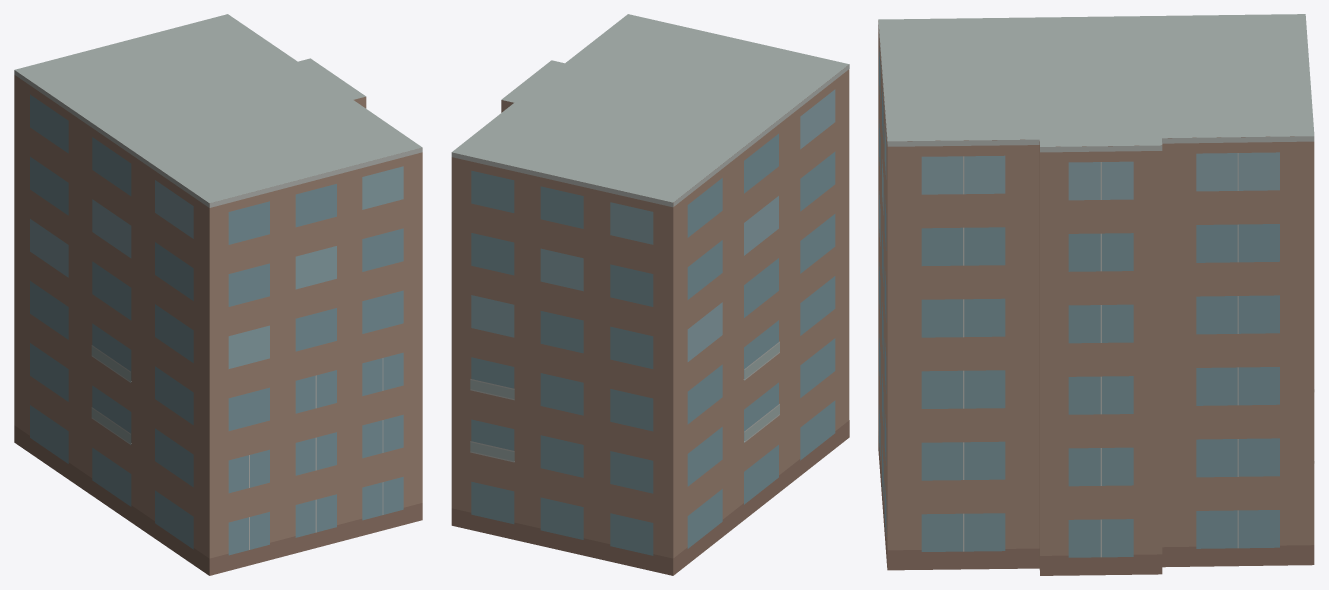
Rendered from survey-upis-32731487.glb.
3 renders of one model, left to right at view 1: azimuth 30°, elevation 25°; view 2: azimuth 150°, elevation 25°; view 3: azimuth 270°, elevation 25°, orthographic. The views are drawn at different scales.
Visible parts, largest first — view 1: survey-upis-32731487.tmp; view 2: survey-upis-32731487.tmp; view 3: survey-upis-32731487.tmp.
Part boxes in pixels (<box>): survey-upis-32731487.tmp: <box>14,14,422,575</box>; survey-upis-32731487.tmp: <box>451,14,849,575</box>; survey-upis-32731487.tmp: <box>878,14,1314,575</box>.
Size of the model in its own units: 12.78 by 19.2 by 17.71.
